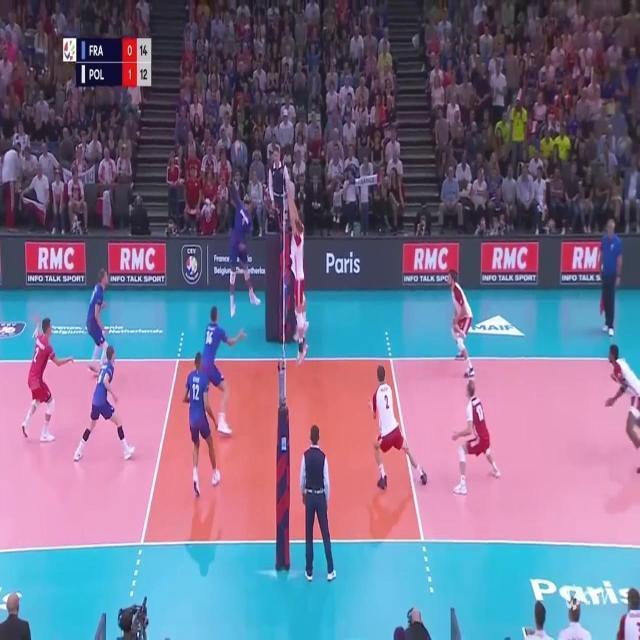volleyball: (235, 142, 243, 154)
